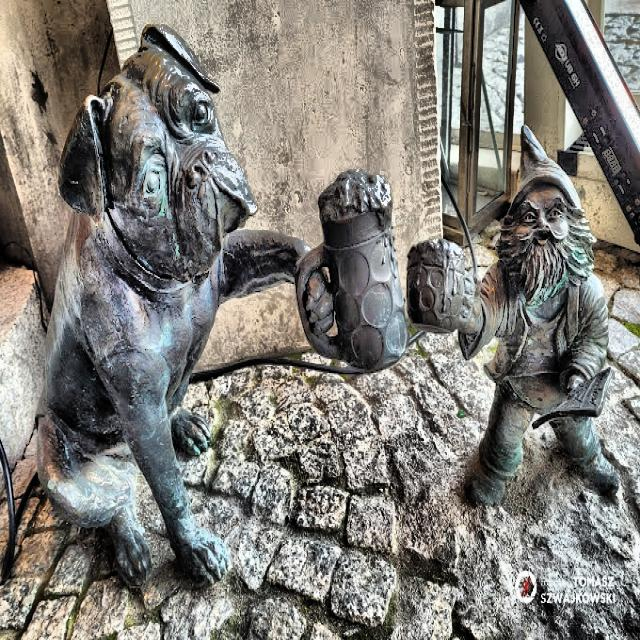Piwozlopek_ i_Piesel_Piwosz: (38, 26, 408, 585), (408, 128, 618, 504)
